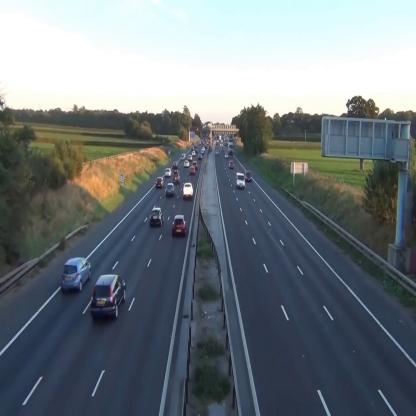car: (91, 274, 126, 320), (60, 258, 92, 292), (172, 214, 187, 236), (149, 207, 164, 226), (182, 182, 193, 198), (166, 182, 176, 196), (244, 170, 252, 182), (156, 177, 164, 188), (173, 174, 180, 183), (165, 167, 172, 176), (189, 167, 196, 174), (228, 160, 234, 168), (172, 161, 178, 168), (184, 160, 189, 168)
lorry: (236, 172, 245, 190)
